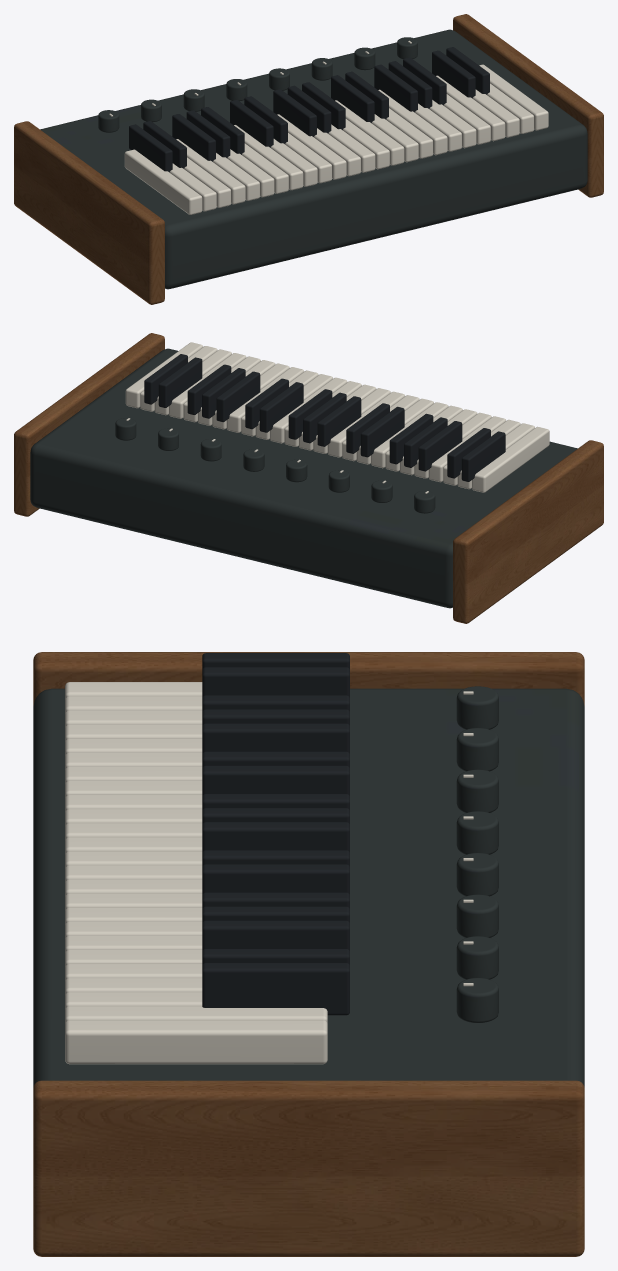
Rendered from synthesizer.glb.
3 views of the same model, one above another, from view 1: azimuth 30°, elevation 25°; view 2: azimuth 150°, elevation 25°; view 3: azimuth 270°, elevation 25° (orthographic). The views are drawn at different scales.
Visible parts, largest first — view 1: Controller chassis, Ivory piano key, Walnut synth cheek, Raised black piano key; view 2: Controller chassis, Walnut synth cheek, Raised black piano key, Ivory piano key; view 3: Walnut synth cheek, Controller chassis, Ivory piano key, Raised black piano key.
Part boxes in pixels (bbox=[...]): Controller chassis: bbox=[40, 29, 587, 289]; Ivory piano key: bbox=[109, 40, 548, 214]; Walnut synth cheek: bbox=[14, 14, 603, 304]; Raised black piano key: bbox=[129, 47, 489, 172]; Controller chassis: bbox=[30, 348, 577, 608]; Walnut synth cheek: bbox=[14, 333, 603, 623]; Raised black piano key: bbox=[144, 354, 505, 481]; Ivory piano key: bbox=[125, 342, 549, 493]; Walnut synth cheek: bbox=[33, 652, 584, 1256]; Controller chassis: bbox=[33, 686, 584, 1087]; Ivory piano key: bbox=[65, 682, 473, 1064]; Raised black piano key: bbox=[202, 653, 349, 1015].
Size of the model in its own units: 0.448 by 0.103 by 0.235.
Materials: 5 (5 with a texture image).
